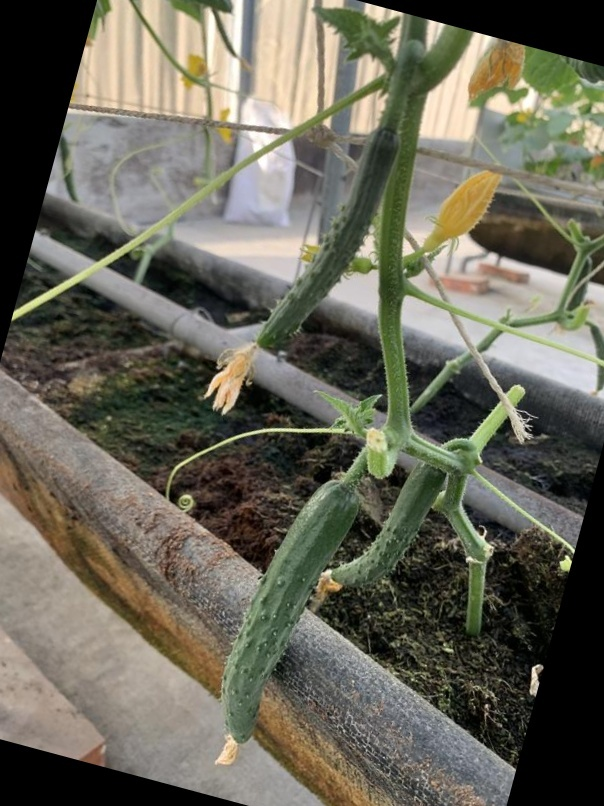bud: (420, 165, 502, 252)
growth: (232, 122, 404, 357), (332, 460, 450, 593)
mature: (216, 478, 354, 754)
